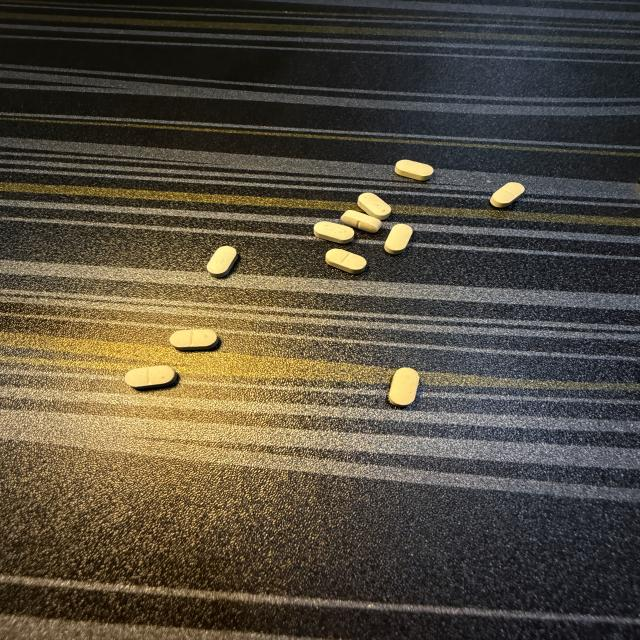pill: (125, 366, 177, 389), (389, 368, 419, 407), (170, 330, 219, 351), (326, 249, 366, 273), (207, 246, 237, 277), (358, 193, 391, 220), (341, 210, 381, 232), (314, 222, 354, 243), (490, 183, 524, 207), (385, 224, 412, 254), (395, 160, 433, 180)
